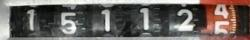digits: (176, 8, 196, 30), (59, 12, 76, 34), (214, 20, 229, 38), (139, 7, 150, 31), (26, 8, 36, 30), (101, 9, 111, 31)
